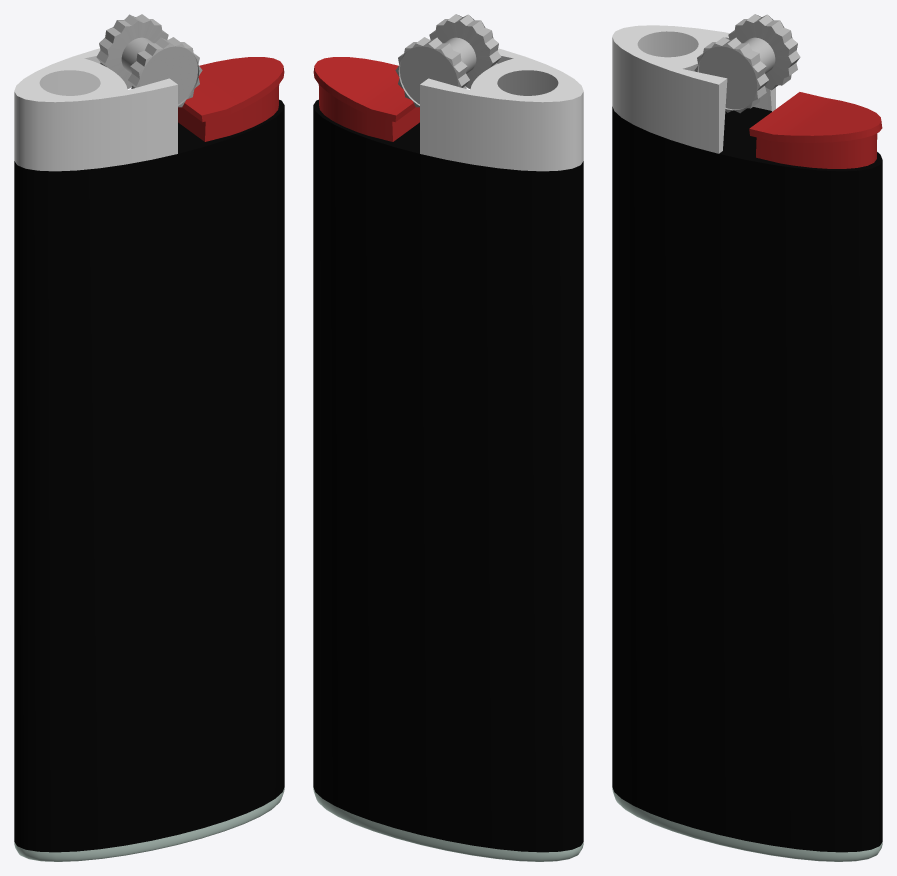
Rendered from lighter.fbx.
3 views of the same model, side by side, from view 1: azimuth 30°, elevation 25°; view 2: azimuth 150°, elevation 25°; view 3: azimuth 330°, elevation 25° (orthographic).
Visible parts, largest first — view 1: lighter, metal piece, trigger, flint; view 2: lighter, metal piece, trigger, flint; view 3: lighter, metal piece, trigger, flint.
Part boxes in pixels (<box>): lighter: <box>14,99,284,861</box>; metal piece: <box>14,48,177,171</box>; trigger: <box>178,57,284,141</box>; flint: <box>96,14,202,107</box>; lighter: <box>313,99,583,861</box>; metal piece: <box>420,48,583,171</box>; trigger: <box>313,57,419,141</box>; flint: <box>395,14,501,107</box>; lighter: <box>612,106,882,861</box>; metal piece: <box>612,25,775,153</box>; trigger: <box>749,92,882,168</box>; flint: <box>694,14,800,113</box>.
Size of the model in its own units: 200 by 575 by 75.
